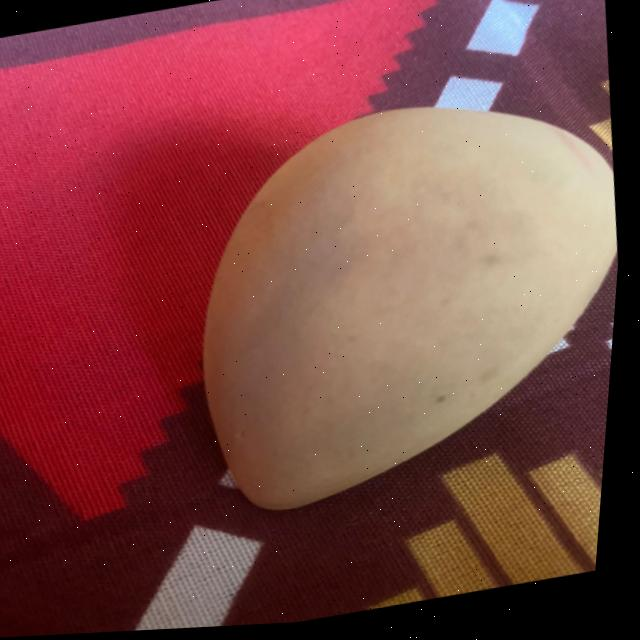beauty blender: (147, 59, 635, 547)
